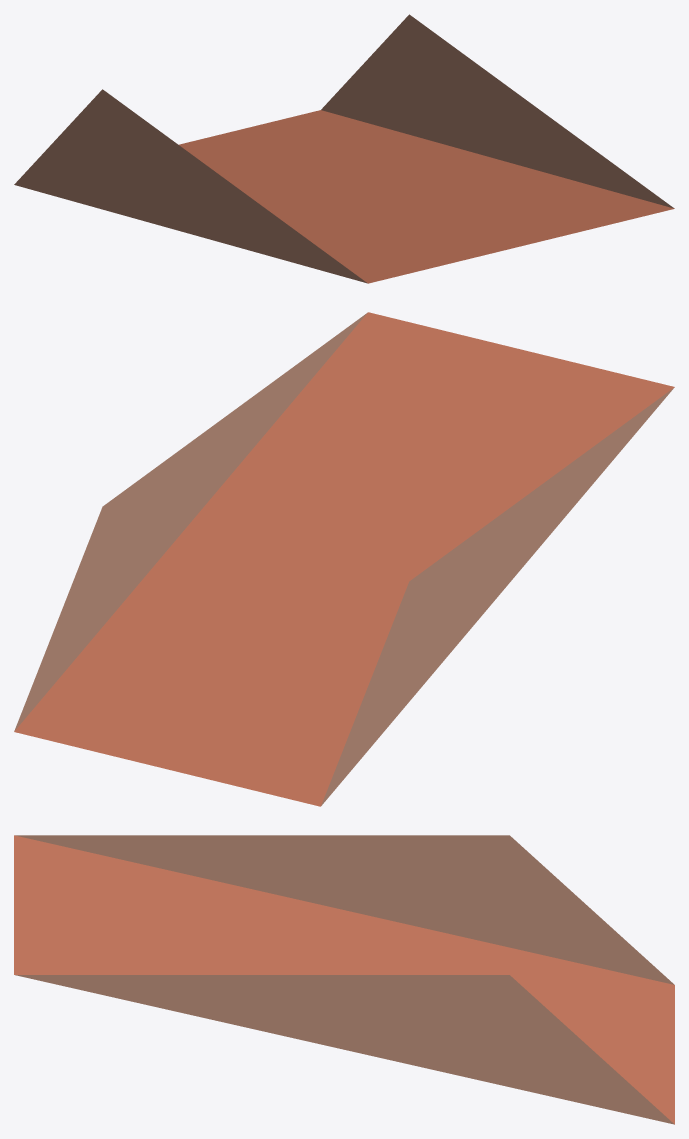
File: terrain_rampLarge.glb
3 views of the same model, one above another, from view 1: azimuth 30°, elevation 25°; view 2: azimuth 150°, elevation 25°; view 3: azimuth 270°, elevation 25° (orthographic). The views are drawn at different scales.
Visible parts, largest first — view 1: terrain_rampLarge; view 2: terrain_rampLarge; view 3: terrain_rampLarge.
Part boxes in pixels (box(x1,y1,x2,y2)): terrain_rampLarge: box(14, 14, 674, 283); terrain_rampLarge: box(14, 312, 674, 806); terrain_rampLarge: box(14, 835, 674, 1124).
Bounding box in the file's own units: 1.4 × 0.702 × 2.81.
